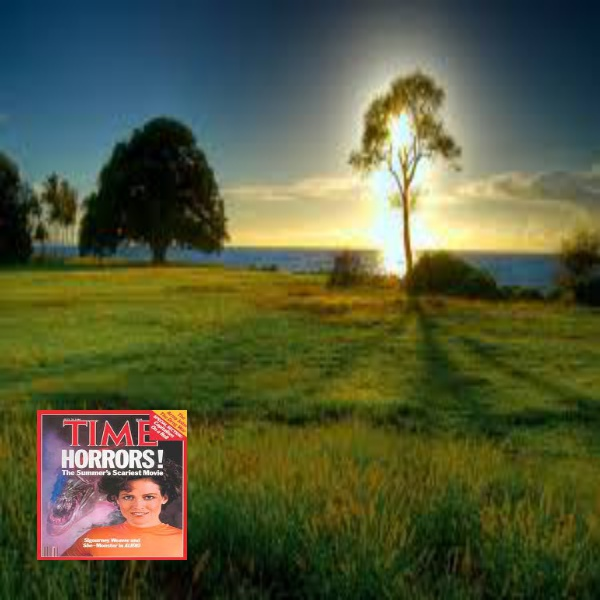time_cover: (36, 402, 192, 567)
